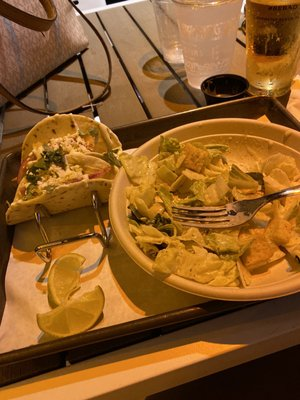sushi: (109, 122, 300, 288)
